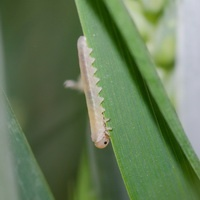insect: (64, 36, 110, 148)
